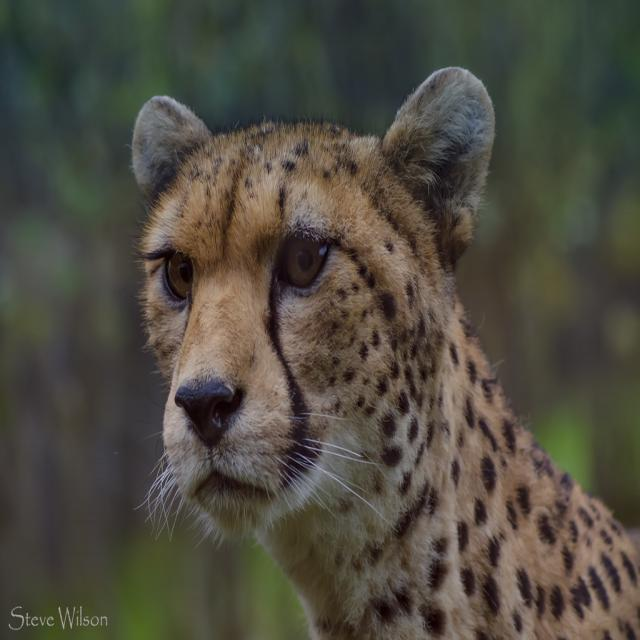Cheetah: (126, 67, 640, 639)
